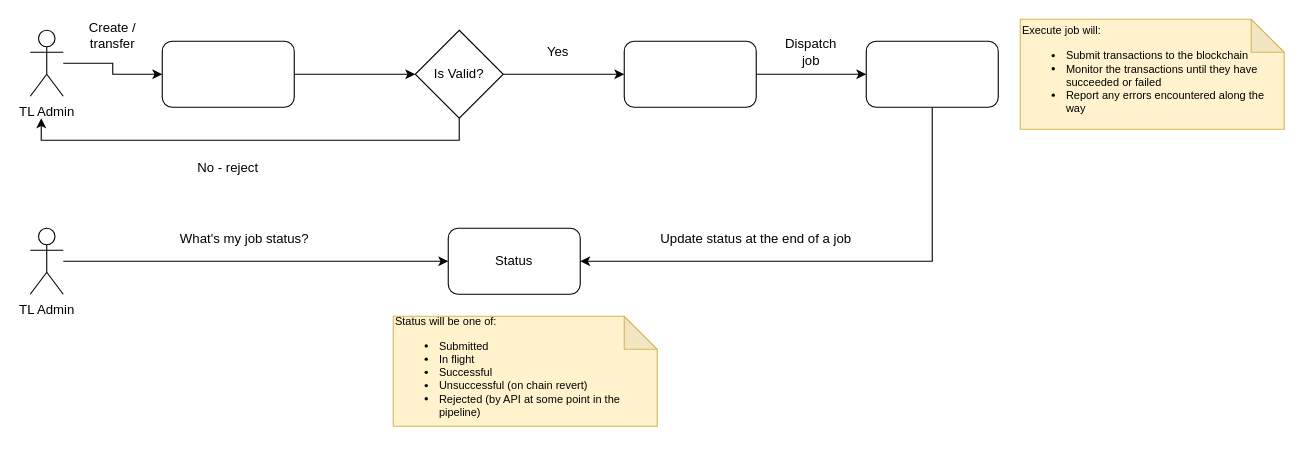
Some shapes in this 1304 by 449 pixel diagram are drawn without their labels. Here are the shapes that lost their labels. From the top down, the centre of each, then its label:
[227,73]: Submit job to API
[689,73]: Add job to queue
[931,73]: Execute Job
